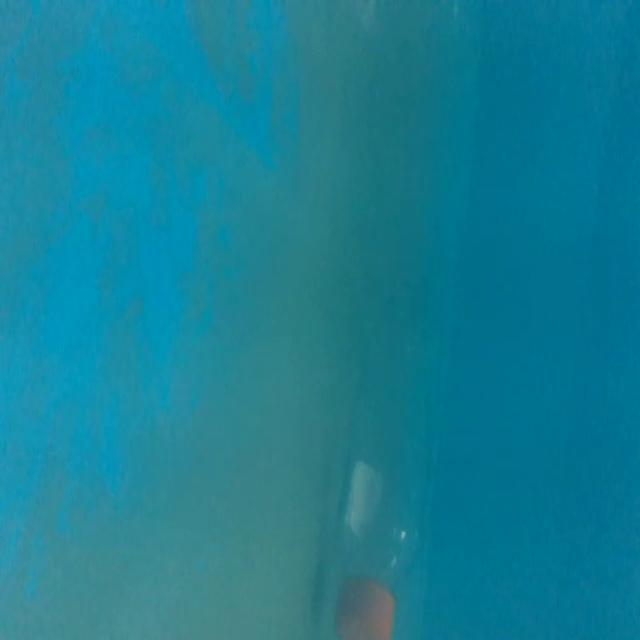plastic bottle: (311, 270, 459, 640)
